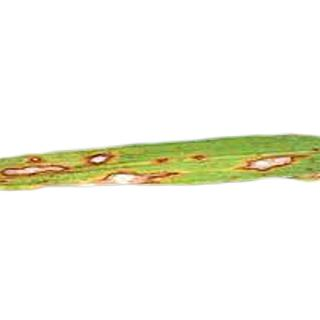Blast: (233, 143, 315, 178), (0, 155, 74, 187), (94, 170, 160, 189), (77, 148, 123, 170)
